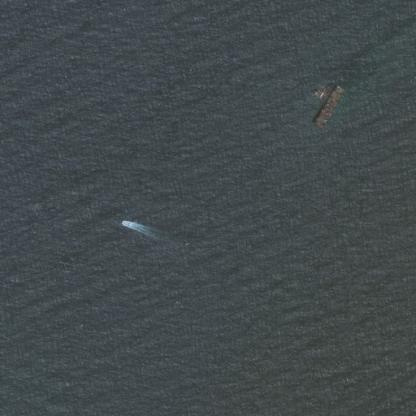ship: (305, 78, 346, 133), (114, 216, 142, 232)
